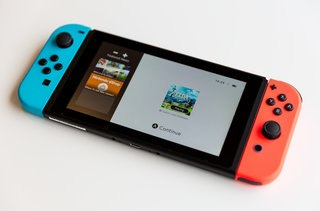NintendoSwitch: (14, 21, 304, 192)
